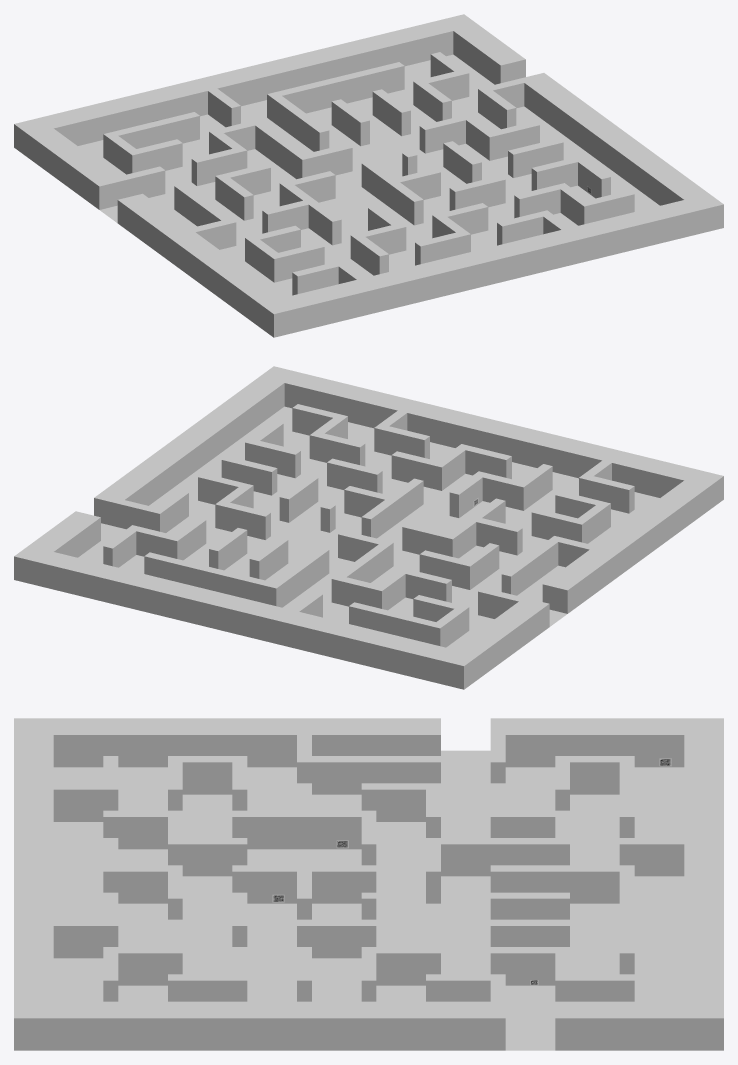
File: maze.dae
3 renders of one model, top to bottom at view 1: azimuth 30°, elevation 25°; view 2: azimuth 150°, elevation 25°; view 3: azimuth 270°, elevation 25°, orthographic. The views are drawn at different scales.
Visible parts, largest first — view 1: Plane; view 2: Plane; view 3: Plane.
Part boxes in pixels (x1,y1,x2,y2): Plane: (14, 14, 723, 337); Plane: (14, 366, 723, 689); Plane: (14, 718, 723, 1050).
Size of the model in its own units: 20 by 20 by 1.11.
